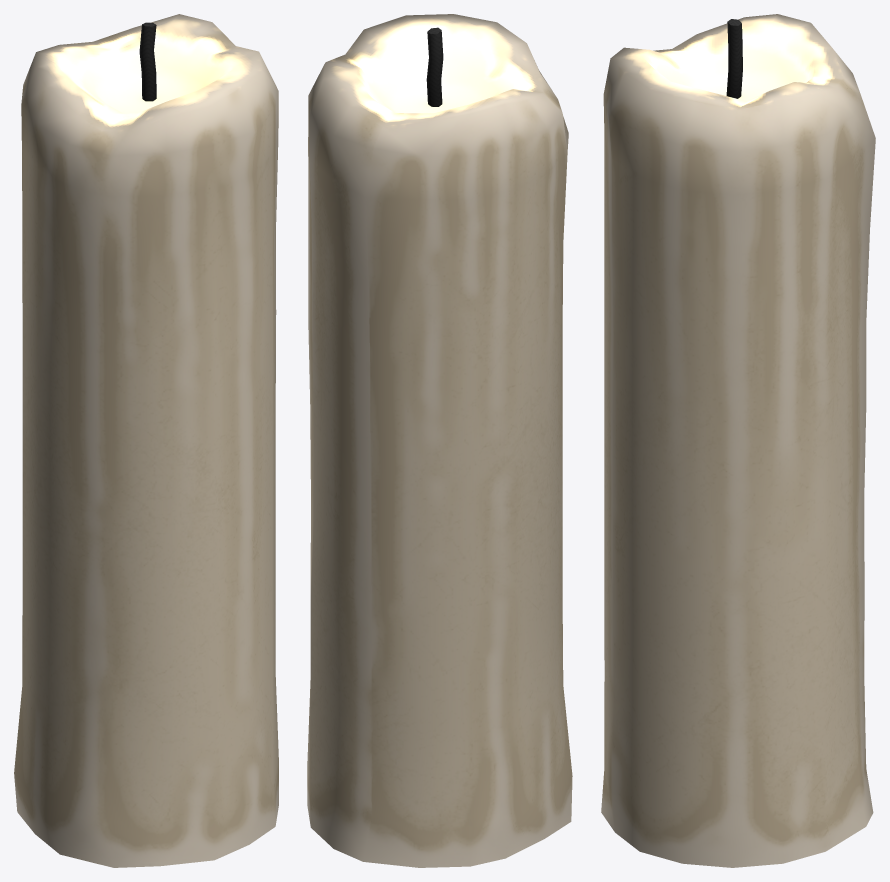
File: SM_Candle1.fbx
3 views of the same model, side by side, from view 1: azimuth 30°, elevation 25°; view 2: azimuth 150°, elevation 25°; view 3: azimuth 270°, elevation 25° (orthographic).
Visible parts, largest first — view 1: SM_Candle1_LOD0; view 2: SM_Candle1_LOD0; view 3: SM_Candle1_LOD0.
Part boxes in pixels (<box>): SM_Candle1_LOD0: <box>14,14,278,867</box>; SM_Candle1_LOD0: <box>307,14,572,867</box>; SM_Candle1_LOD0: <box>601,14,875,867</box>.
Bounding box in the file's own units: 14.39 × 15.04 × 47.84.
1 material, 1 textured.
